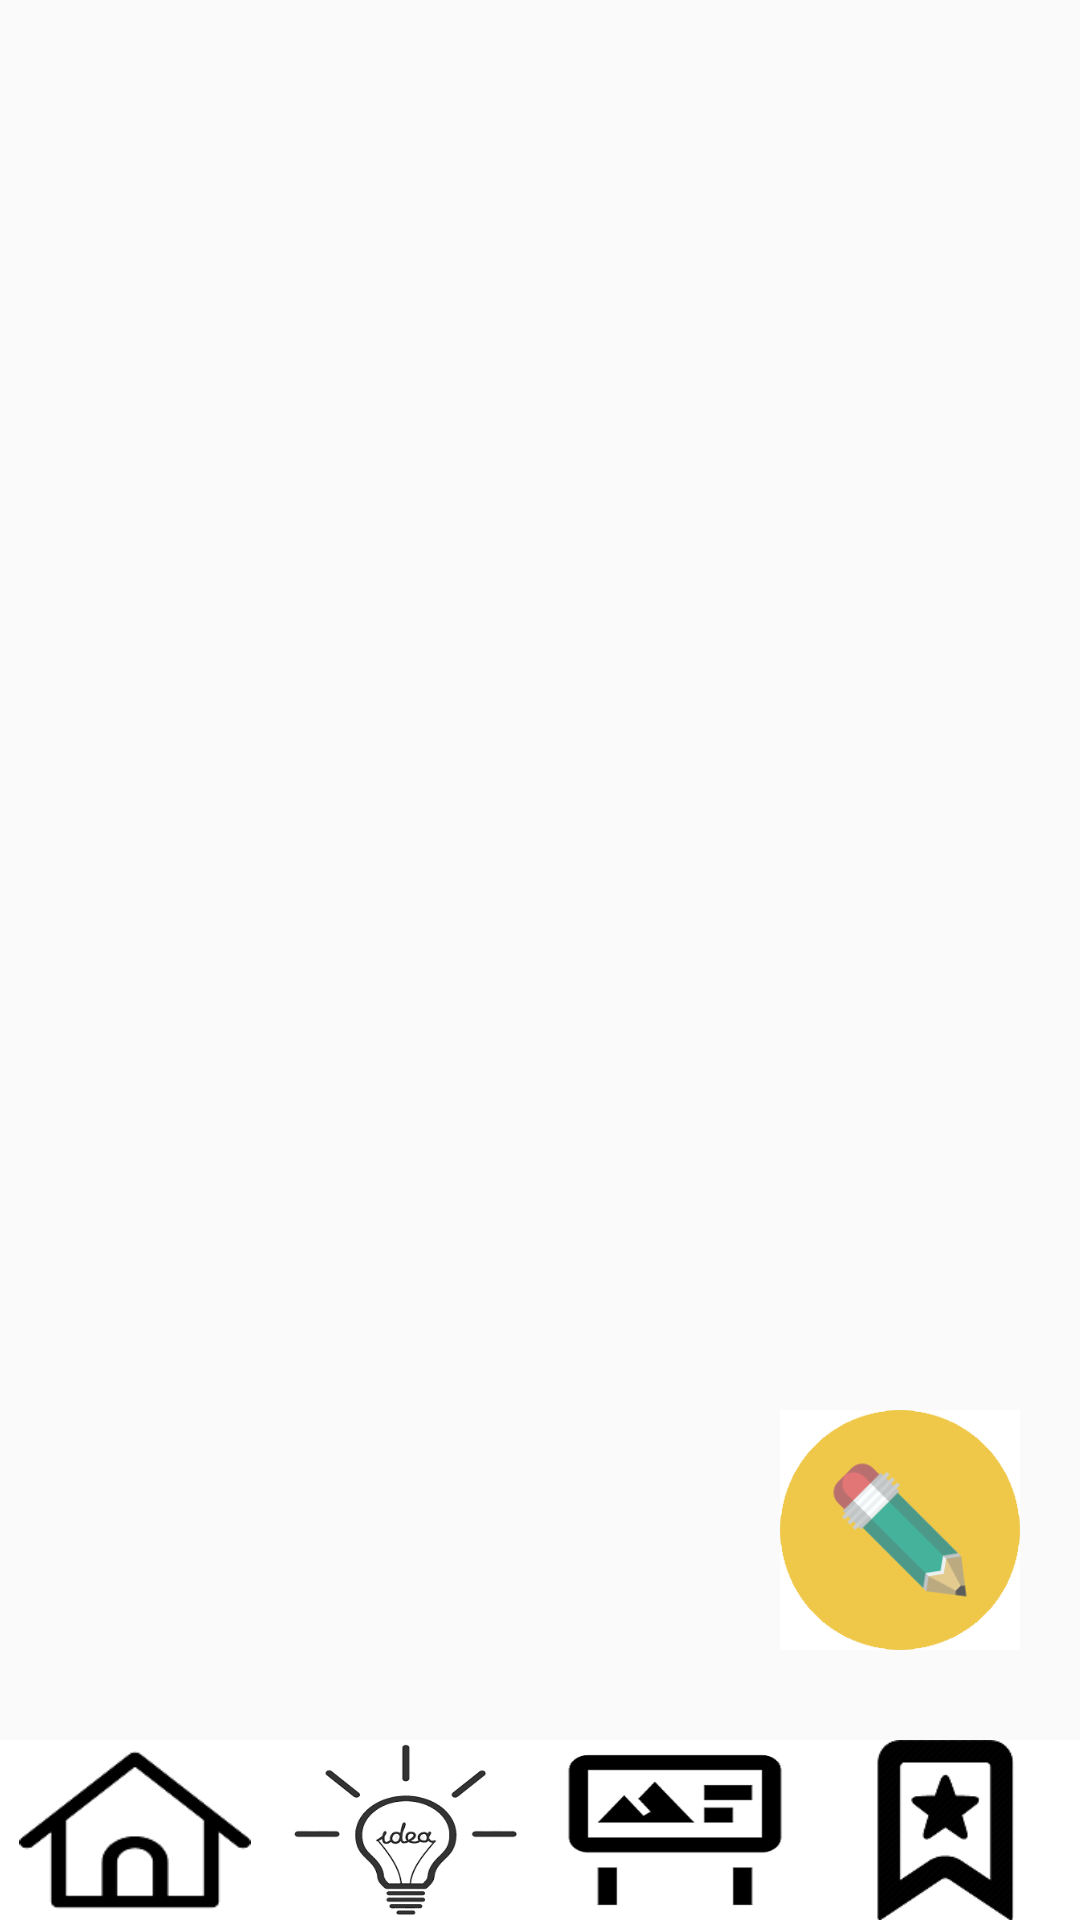

Screen size 1080*1920. Icon name, then its center in pixels as point (x, y):
bottom bookmark: point (945, 1830)
bottom goodtip: point (405, 1830)
bottom hometap: point (135, 1830)
btnwrite: point (900, 1530)
